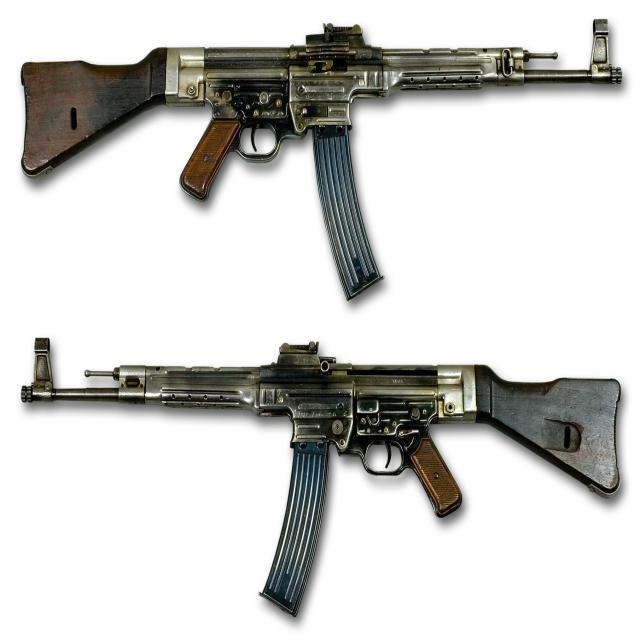Rifle: (20, 17, 623, 303), (21, 340, 624, 616)
